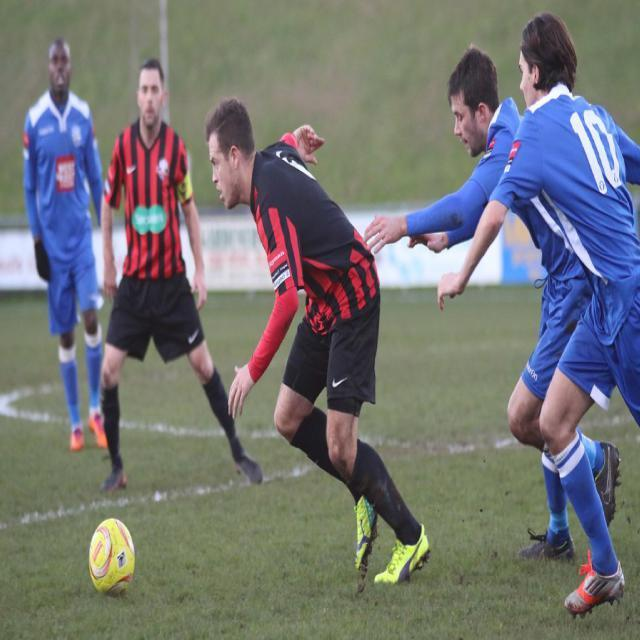football: (68, 518, 147, 596)
